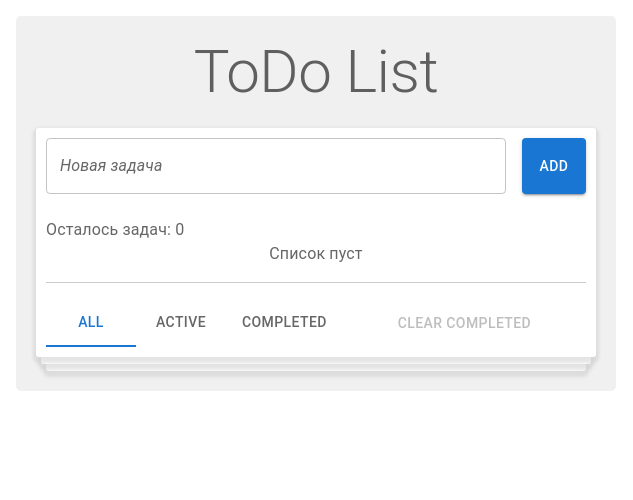
Test: ToDo App › фильтрует активные задачи
This screenshot has width=633, height=500.
Step 1. Type "Активная задача" into the field labelled "Новая задача" → (276, 166), box [46,138,506,194]
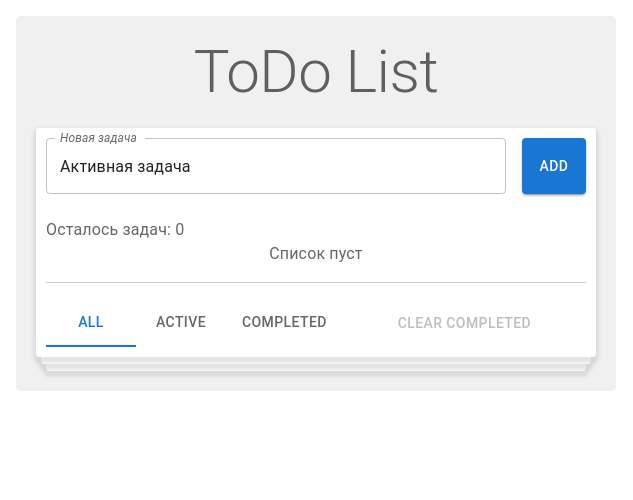
Step 2. Click the button "Add" → (554, 166), box [522,138,586,194]
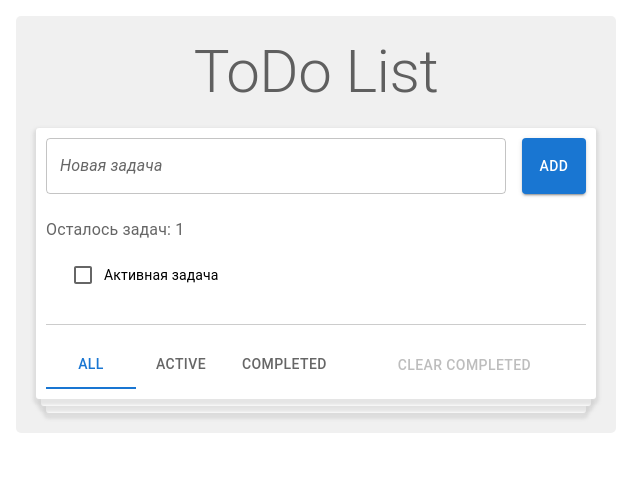
Step 3. Type "Завершенная задача" into the field labelled "Новая задача" → (276, 166), box [46,138,506,194]
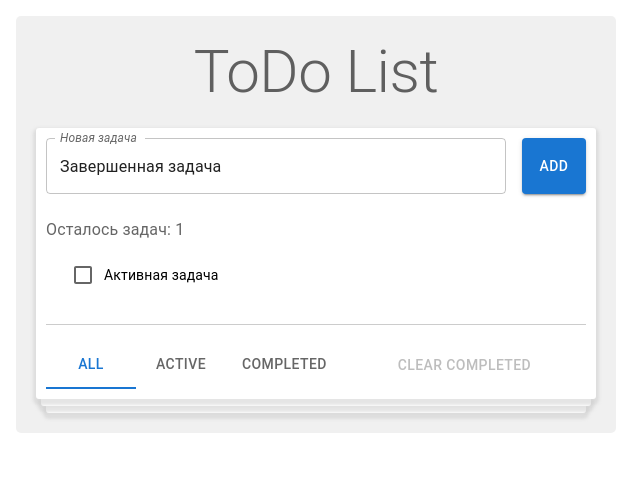
Step 4. Click the button "Add" → (554, 166), box [522,138,586,194]
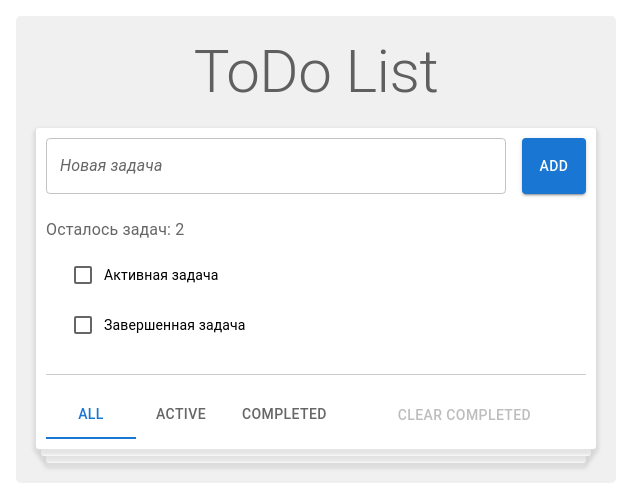
Step 5. Click the checkbox next to "Завершенная задача" → (83, 325), box [71,313,95,337]
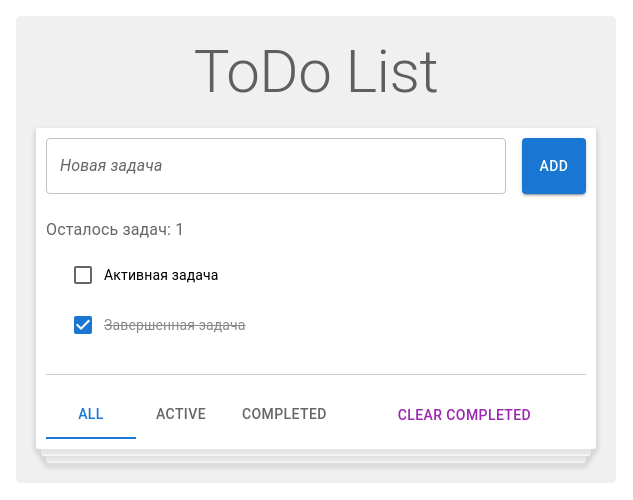
Step 6. Click the tab "Active" → (181, 415), box [136,391,226,439]
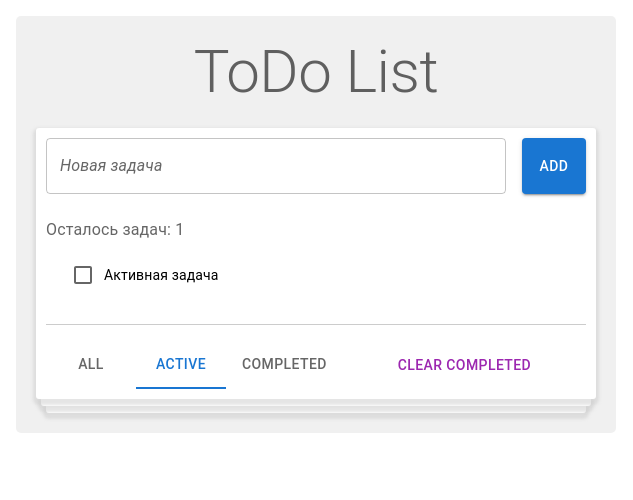
Result: the text "Активная задача" is shown at [104,267,219,283]
Result: the text "Завершенная задача" is gone
